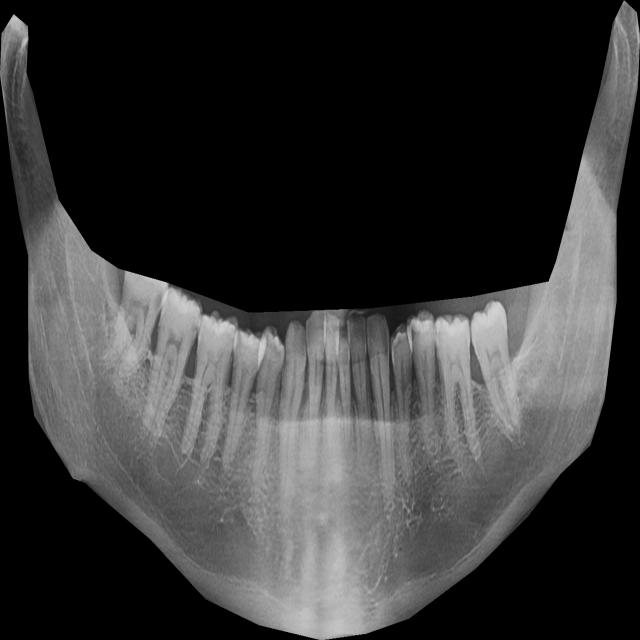mandibula: (0, 0, 640, 640)
